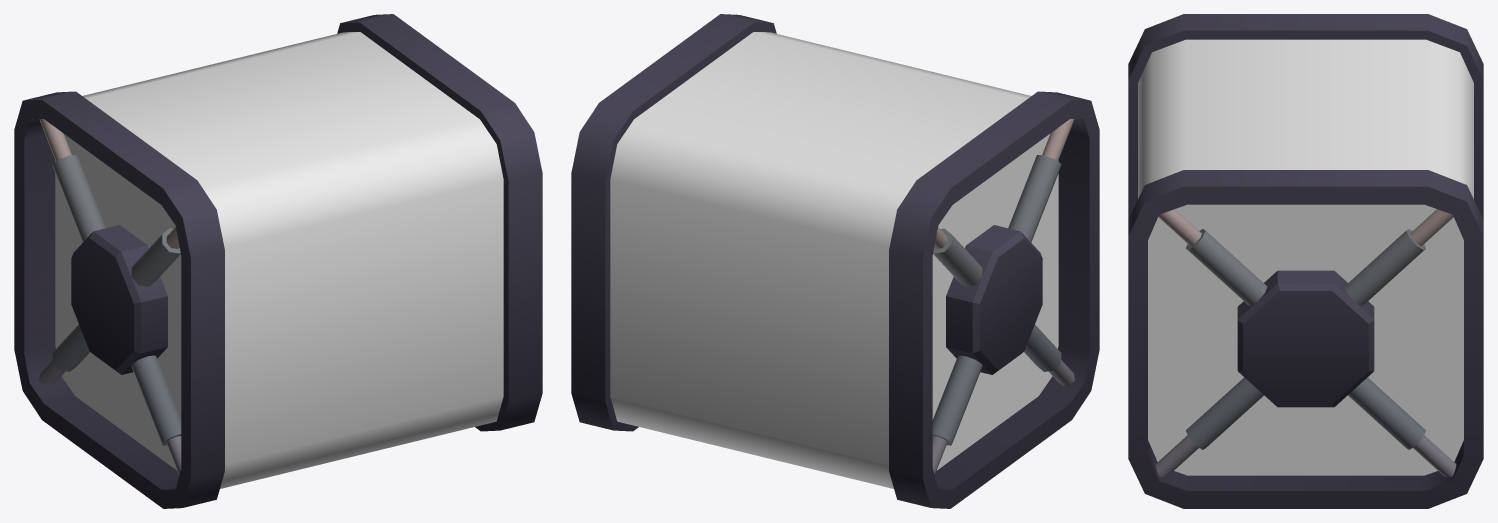
Rendered from SmallBox.fbx.
3 renders of one model, left to right at view 1: azimuth 30°, elevation 25°; view 2: azimuth 150°, elevation 25°; view 3: azimuth 270°, elevation 25°, orthographic.
Visible parts, largest first — view 1: SmallBox; view 2: SmallBox; view 3: SmallBox.
Part boxes in pixels (left/top/right/bottom): SmallBox: left=14, top=14, right=542, bottom=508; SmallBox: left=571, top=14, right=1099, bottom=508; SmallBox: left=1128, top=14, right=1483, bottom=508.
Size of the model in its own units: 243 by 212 by 212.
